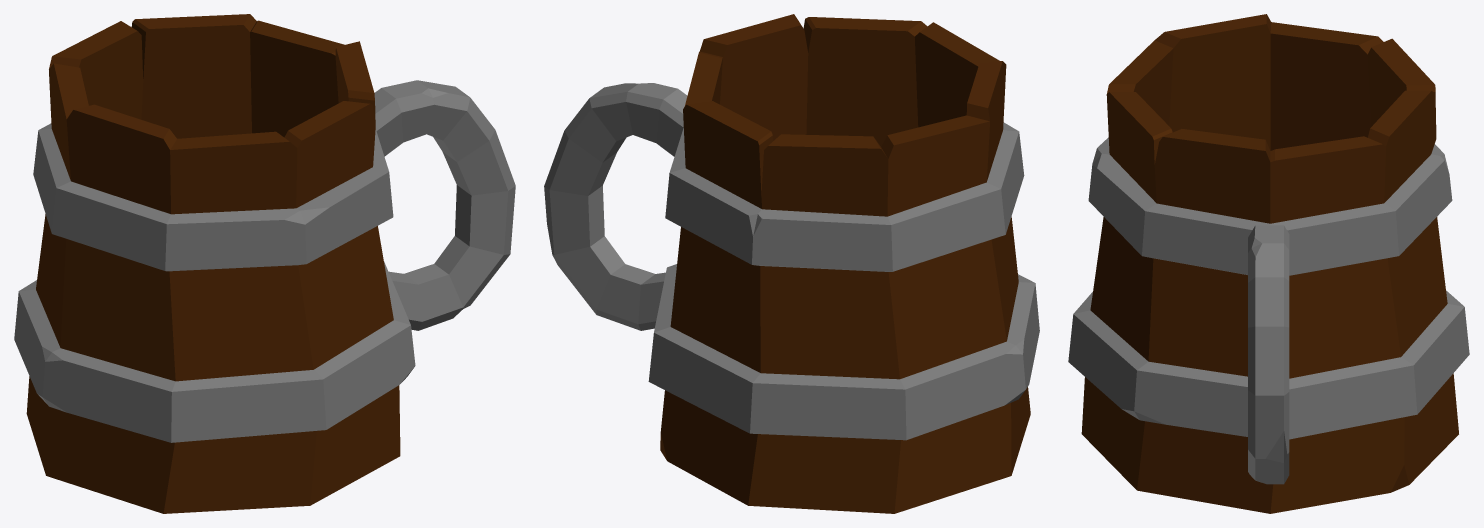
Rendered from Tankard.fbx.
3 views of the same model, side by side, from view 1: azimuth 30°, elevation 25°; view 2: azimuth 150°, elevation 25°; view 3: azimuth 270°, elevation 25° (orthographic). The views are drawn at different scales.
Visible parts, largest first — view 1: 4Loops.001, Cylinder.002; view 2: 4Loops.001, Cylinder.002; view 3: 4Loops.001, Cylinder.002.
Boxes of the visible parts, x1,y1,x2,y2 form: 4Loops.001: (14,14,415,513); Cylinder.002: (374,80,515,330); 4Loops.001: (648,14,1039,513); Cylinder.002: (544,83,687,330); 4Loops.001: (1068,14,1469,513); Cylinder.002: (1248,225,1289,484).
Bounding box in the file's own units: 281 × 206 × 213.
